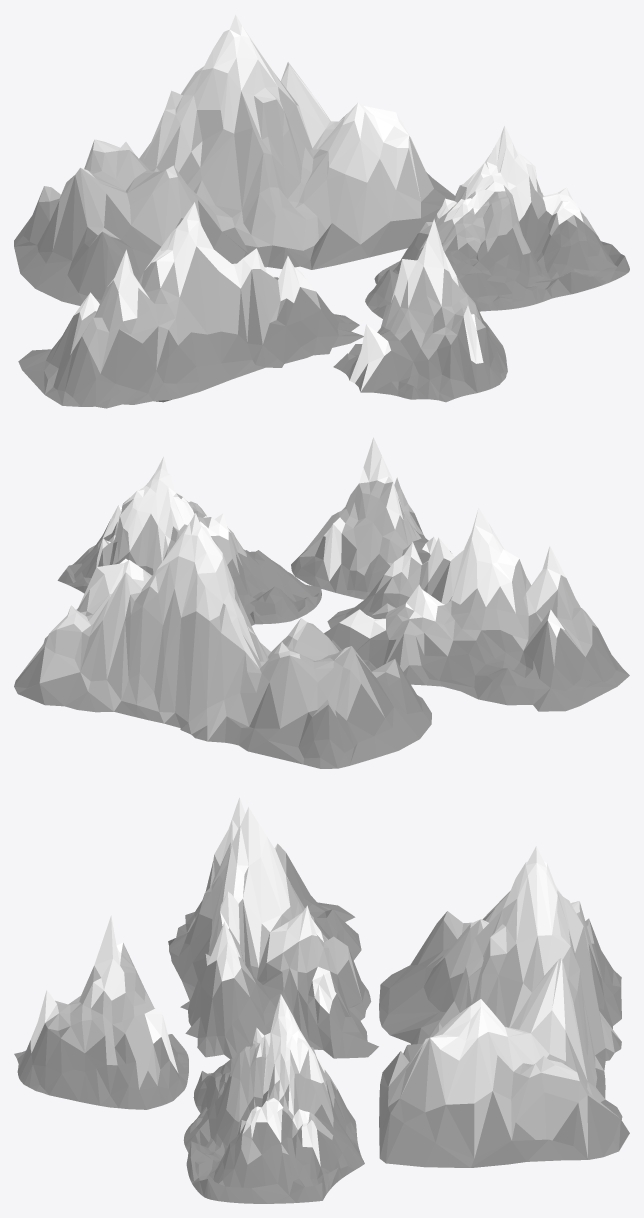
The model's file is low_poly_mountains.glb.
The picture shows the model from 3 angles, top to bottom: view 1: azimuth 30°, elevation 25°; view 2: azimuth 150°, elevation 25°; view 3: azimuth 270°, elevation 25°; orthographic projection. The views are drawn at different scales.
Visible parts, largest first — view 1: Mountain 4_0, Mountain 2_2, Mountain 3_1, Mountain 1_3; view 2: Mountain 4_0, Mountain 2_2, Mountain 3_1, Mountain 1_3; view 3: Mountain 4_0, Mountain 2_2, Mountain 3_1, Mountain 1_3.
Boxes of the visible parts, x1=… form: Mountain 4_0: x1=14, y1=14, x2=454, y2=305; Mountain 2_2: x1=18, y1=202, x2=363, y2=408; Mountain 3_1: x1=365, y1=125, x2=629, y2=318; Mountain 1_3: x1=333, y1=219, x2=507, y2=402; Mountain 4_0: x1=14, y1=513, x2=431, y2=768; Mountain 2_2: x1=324, y1=507, x2=629, y2=711; Mountain 3_1: x1=57, y1=456, x2=321, y2=625; Mountain 1_3: x1=291, y1=437, x2=450, y2=599; Mountain 4_0: x1=379, y1=846, x2=629, y2=1167; Mountain 2_2: x1=168, y1=797, x2=378, y2=1059; Mountain 3_1: x1=183, y1=994, x2=364, y2=1203; Mountain 1_3: x1=14, y1=915, x2=188, y2=1109.
Bounding box in the file's own units: 75.66 × 25.79 × 64.34.
Materials: 1 (1 with a texture image).
